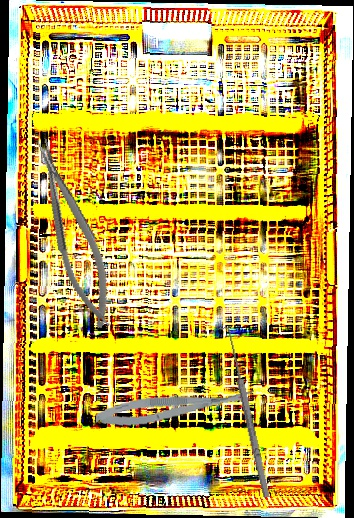Hook Surgical: (216, 325, 273, 500)
Micro Scissor: (93, 384, 257, 431)
Needle Holder: (27, 131, 122, 335)
